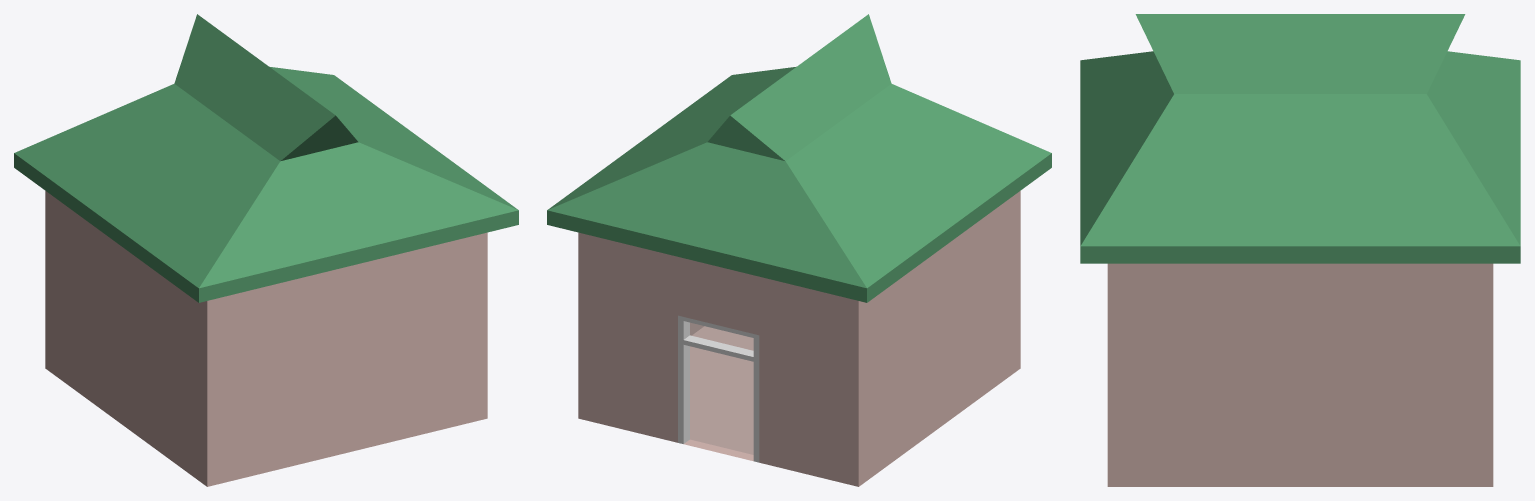
Rendered from building-90.glb.
The picture shows the model from 3 angles, left to right: view 1: azimuth 30°, elevation 25°; view 2: azimuth 150°, elevation 25°; view 3: azimuth 270°, elevation 25°; orthographic projection. The views are drawn at different scales.
Visible parts, largest first — view 1: Cube, Cube.001; view 2: Cube, Cube.001; view 3: Cube.001, Cube.
Part boxes in pixels (bbox=[...]): Cube: bbox=[45, 191, 487, 486]; Cube.001: bbox=[14, 14, 518, 302]; Cube: bbox=[578, 191, 1020, 486]; Cube.001: bbox=[547, 14, 1051, 302]; Cube.001: bbox=[1080, 14, 1520, 263]; Cube: bbox=[1107, 263, 1493, 486].
Bounding box in the file's own units: 1.14 × 1.12 × 1.14.
